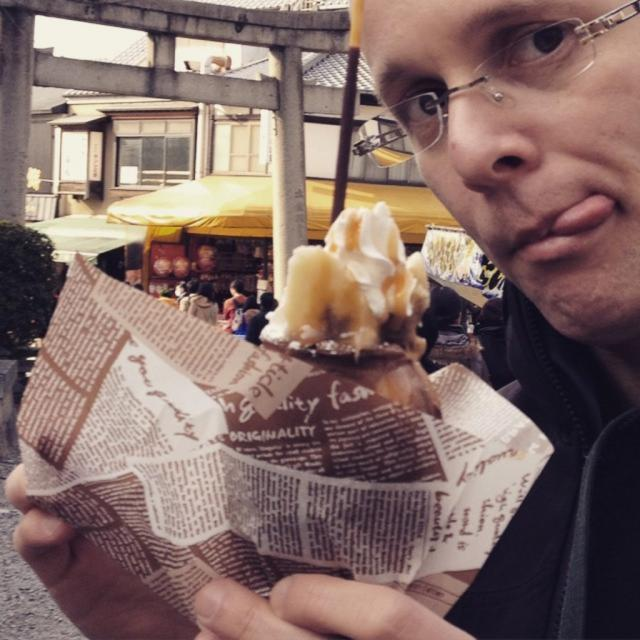Ice cream: (250, 192, 440, 374)
